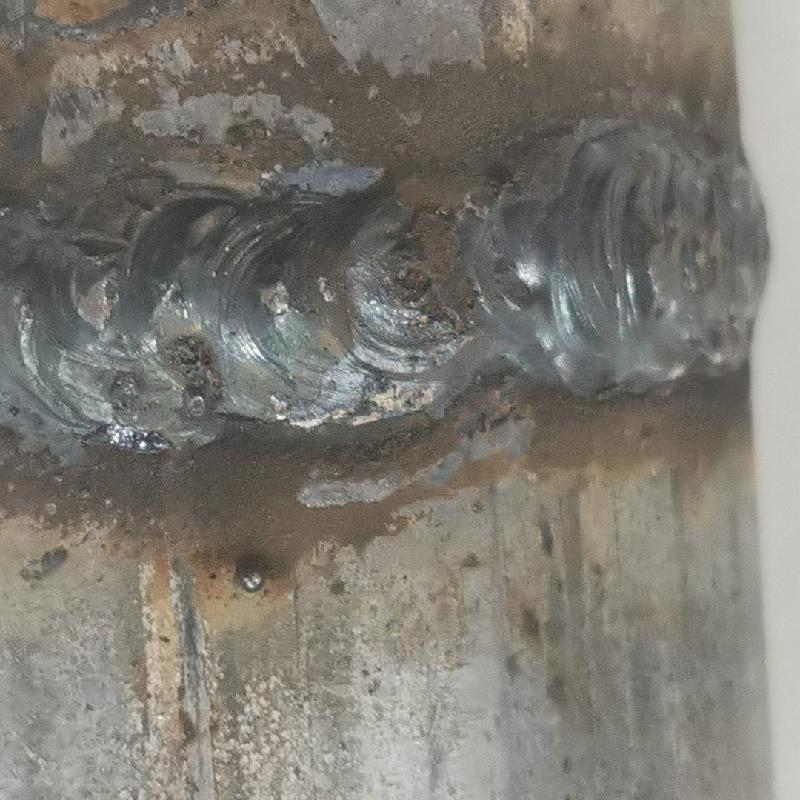good: (1, 135, 774, 455)
